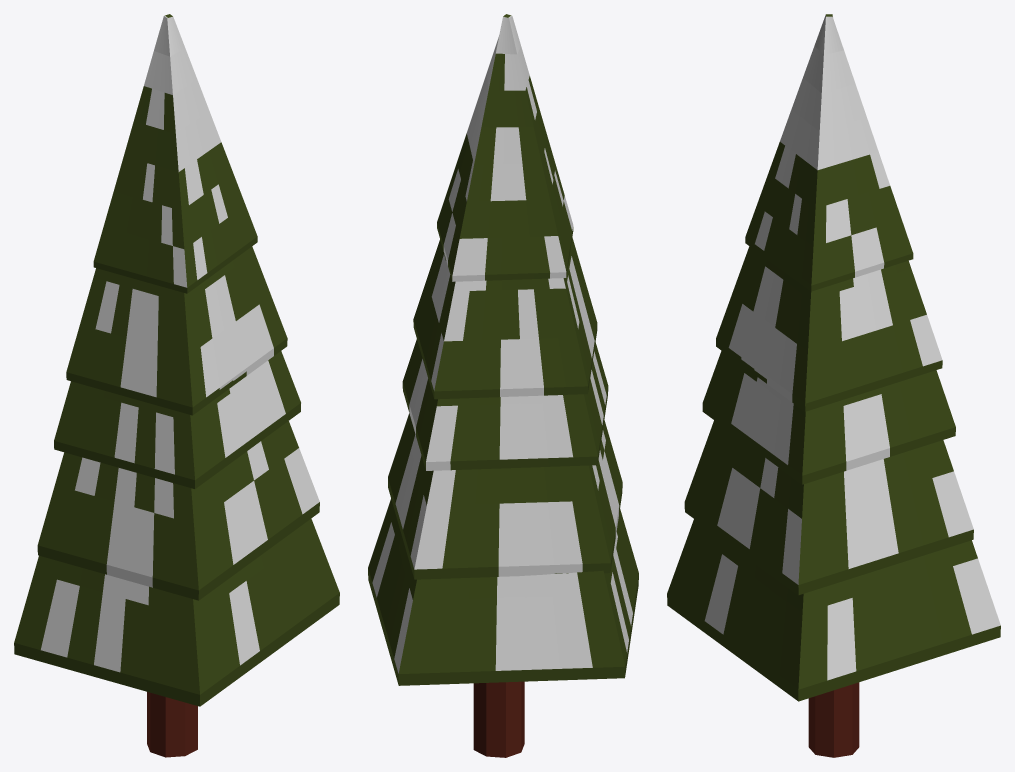
The model's file is treewithsnow.fbx.
3 views of the same model, side by side, from view 1: azimuth 30°, elevation 25°; view 2: azimuth 150°, elevation 25°; view 3: azimuth 270°, elevation 25° (orthographic).
Visible parts, largest first — view 1: Plane.004, Plane; view 2: Plane.004, Plane; view 3: Plane.004, Plane.
Boxes of the visible parts, box(x1,y1,x2,y2) form: Plane.004: box(14, 14, 339, 706); Plane: box(147, 692, 197, 757); Plane.004: box(368, 14, 638, 685); Plane: box(473, 681, 524, 757); Plane.004: box(667, 14, 1000, 701); Plane: box(808, 682, 859, 757).
Bounding box in the file's own units: 659 × 1582 × 657.
